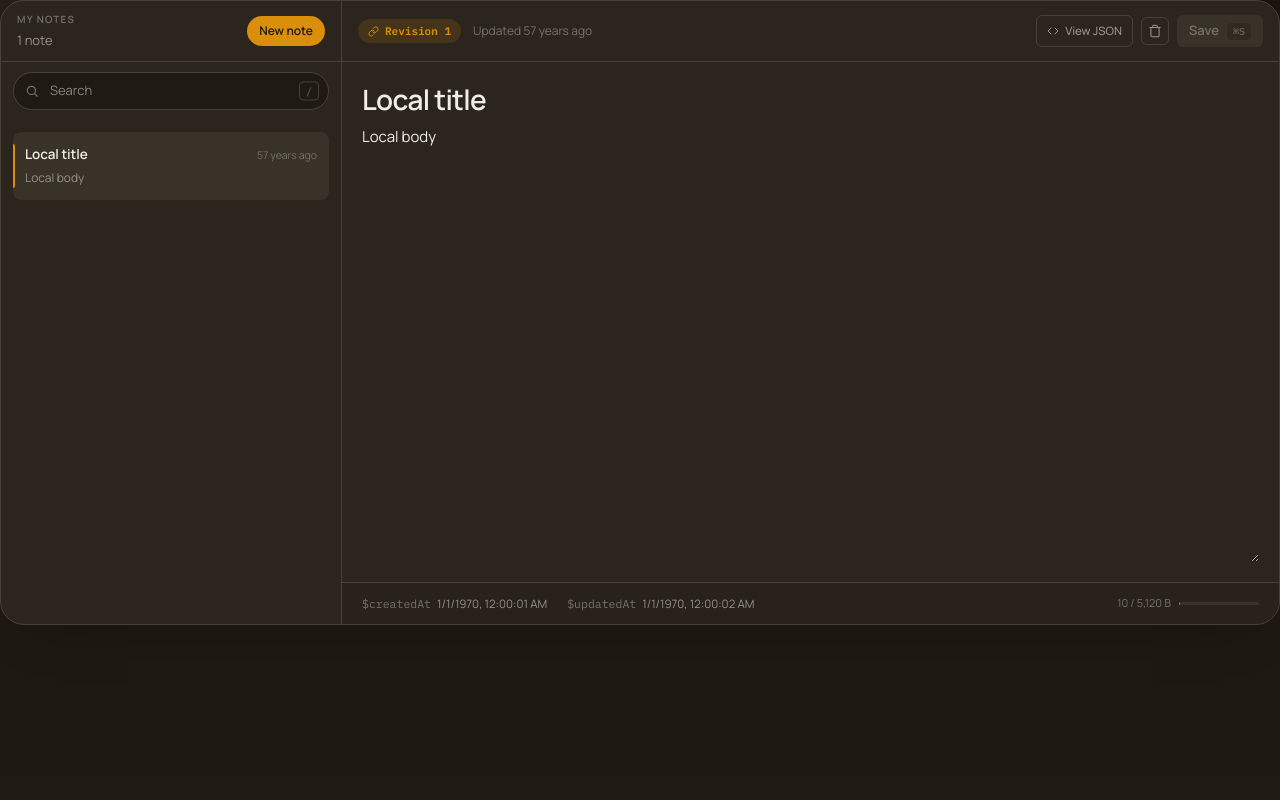
Test: NotesWorkspace › concurrent save handling › surfaces a conflict warning when a failed save reveals the chain has moved
This screenshot has width=1280, height=800.
Replace the text in the text box named "body" with "User edited body" at x=810, y=341, box [362,121,1259,562]
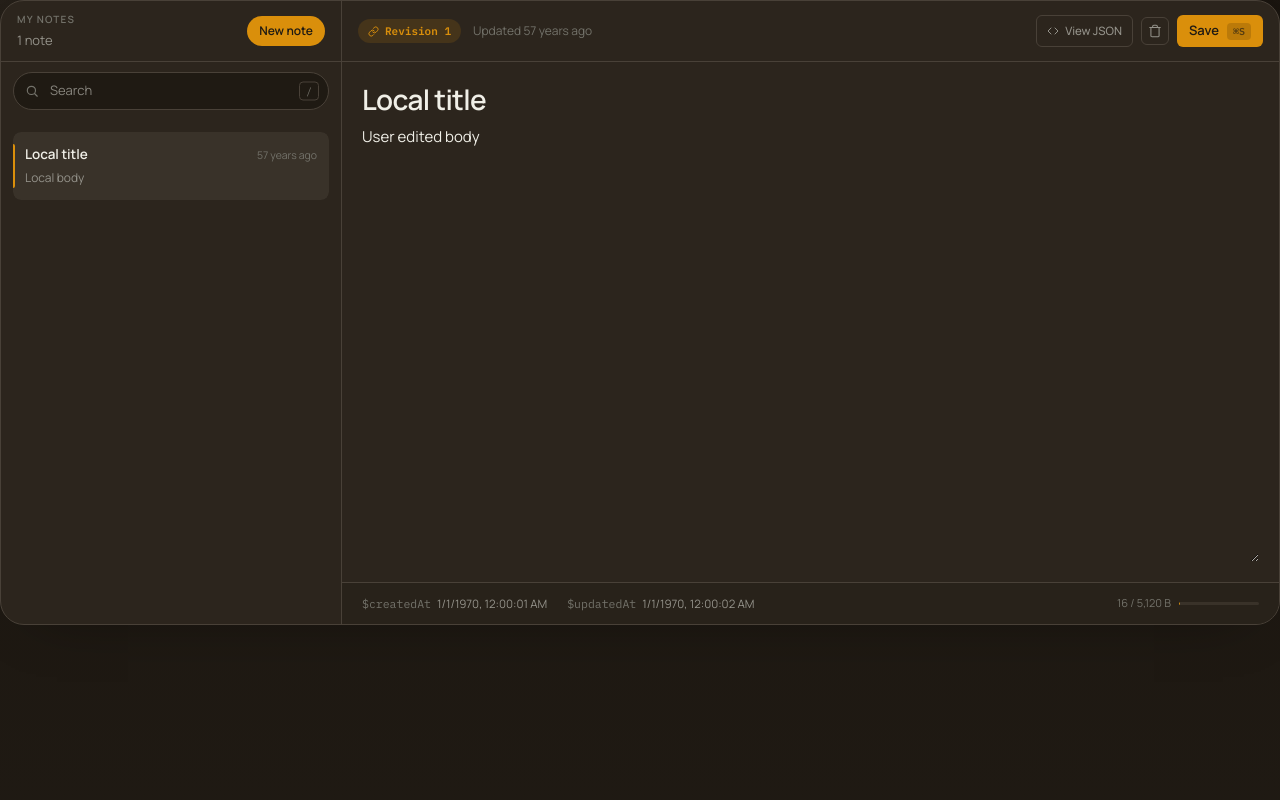
Click the button "Save ⌘S" at x=1220, y=31, box [1177,15,1263,47]
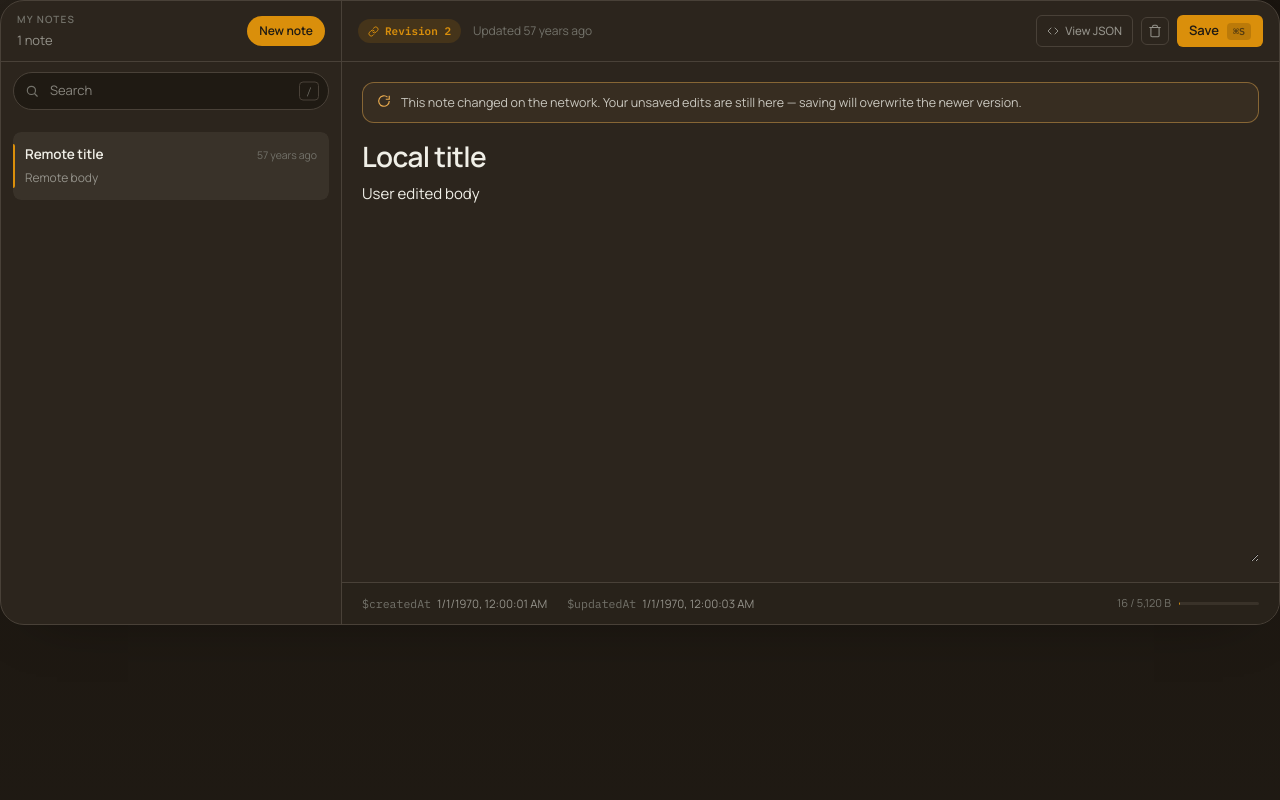
Now the text "This note changed on the network" is shown, box [401,94,1022,111]
